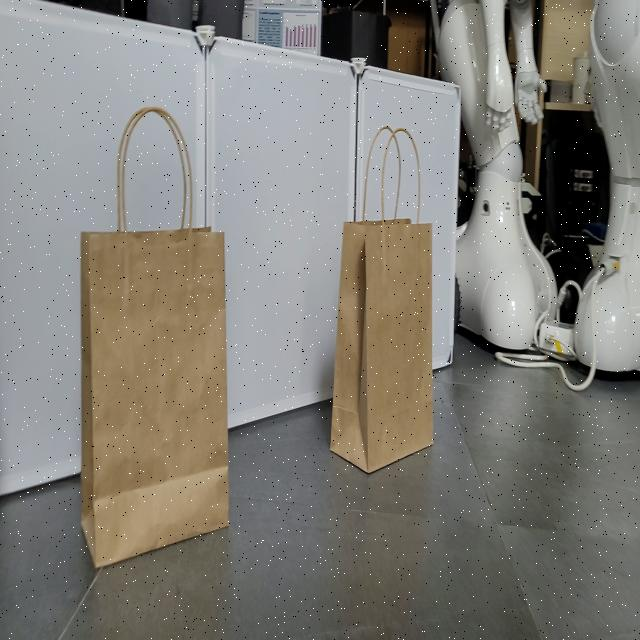paper bag: (78, 104, 232, 566), (326, 120, 438, 473)
